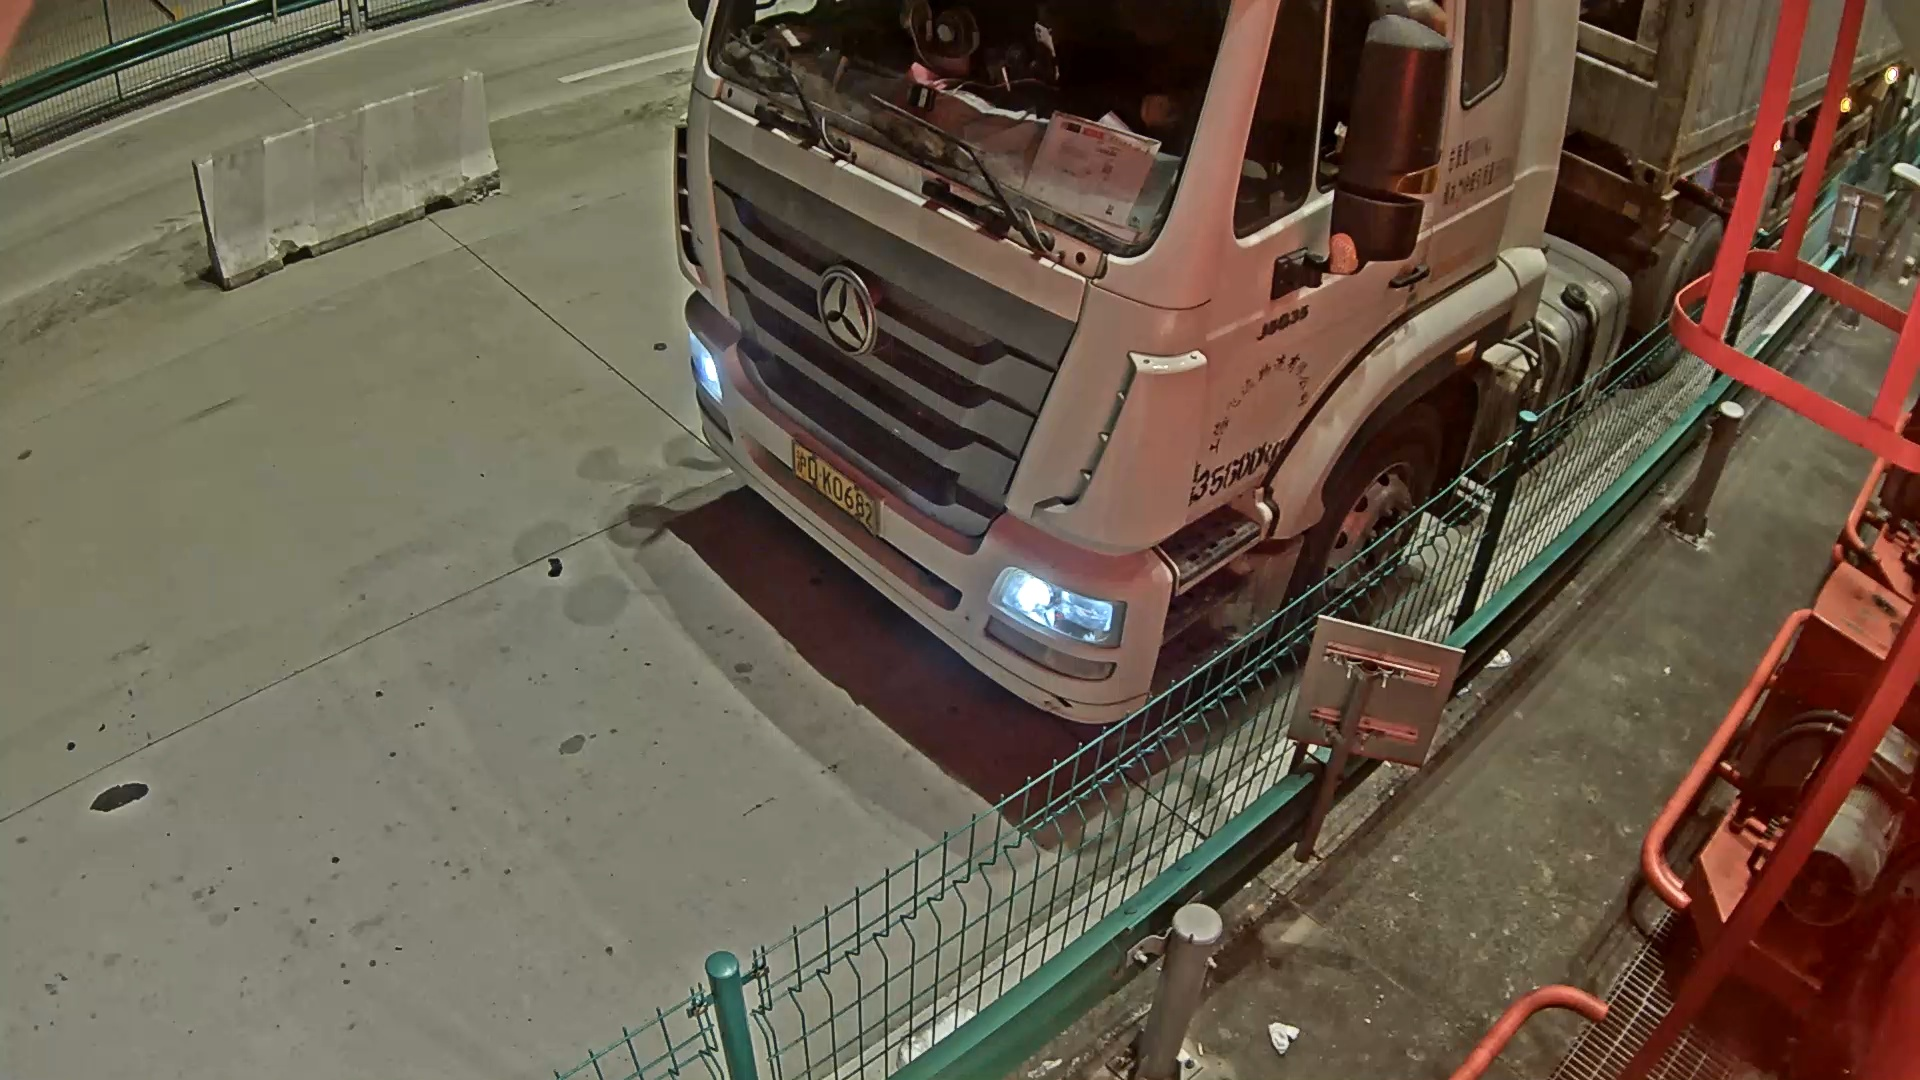head: (675, 14, 1325, 744)
plate: (783, 444, 877, 525)
